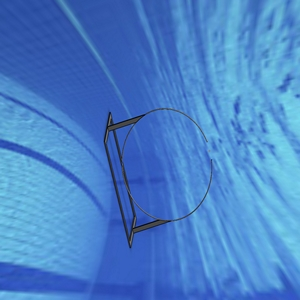circle: (99, 106, 214, 247)
